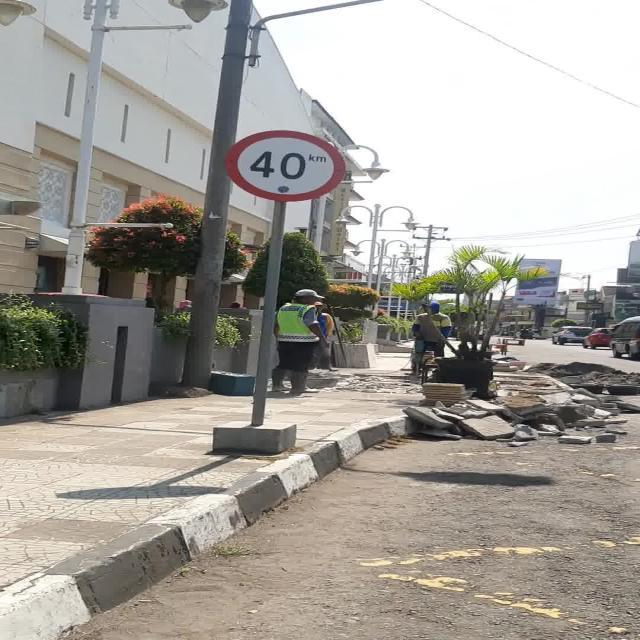Kecepatan Maks. 40 km: (224, 130, 346, 202)
